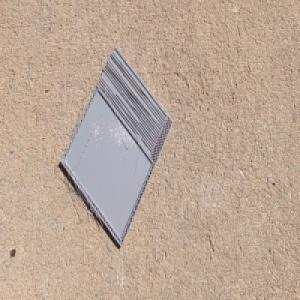PlasticPart: (59, 46, 173, 249)
